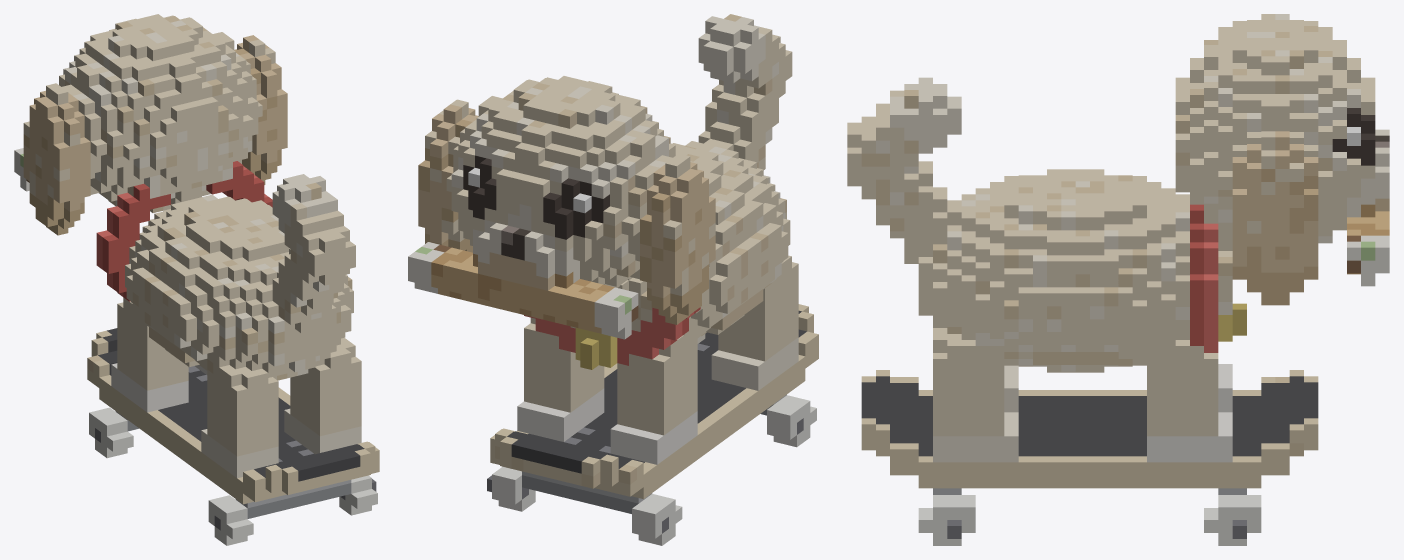
File: CanelitoCannolito.glb
3 views of the same model, side by side, from view 1: azimuth 30°, elevation 25°; view 2: azimuth 150°, elevation 25°; view 3: azimuth 270°, elevation 25° (orthographic). The views are drawn at different scales.
Parts seen in each view (by area): view 1: geometry_0; view 2: geometry_0; view 3: geometry_0.
Part boxes in pixels (x1,y1,x2,y2): geometry_0: [14, 14, 379, 545]; geometry_0: [408, 14, 818, 545]; geometry_0: [847, 14, 1389, 545].
Bounding box in the file's own units: 0.5238 × 0.8571 × 0.9048.
